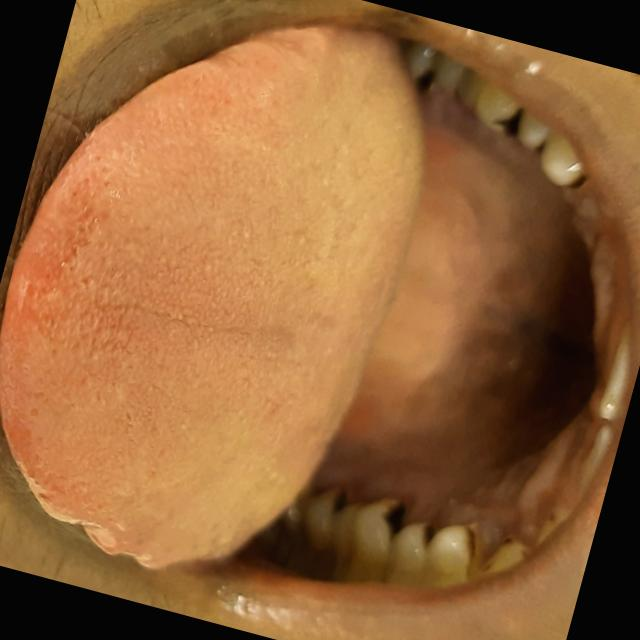No Cancer: (268, 111, 636, 600)
